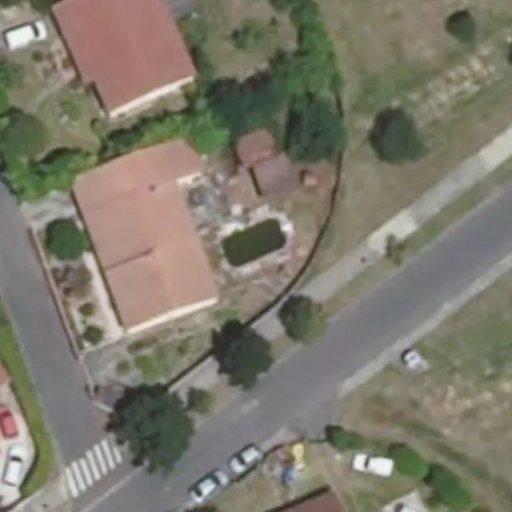pool: (221, 217, 287, 265)
